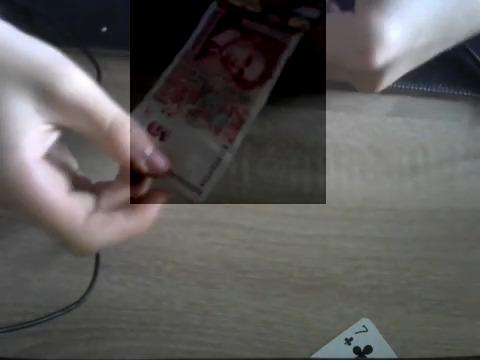5leva: (130, 0, 326, 204)
